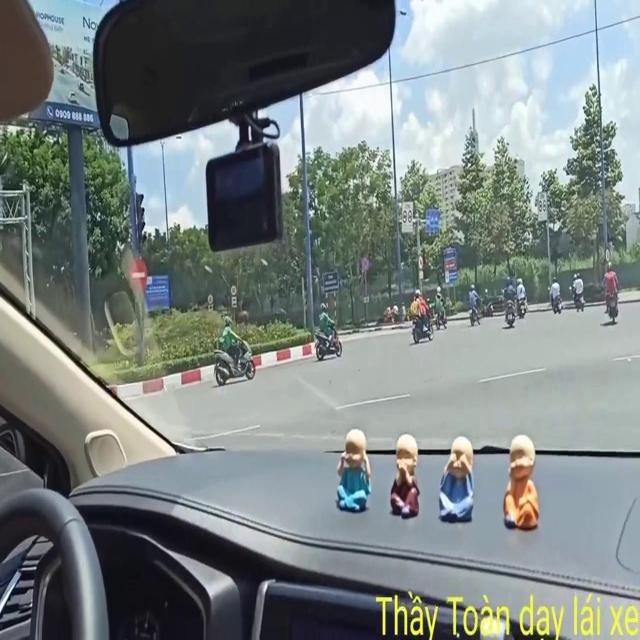Cấm các phương tiện hoạt động trong khung giờ cố định: (398, 191, 415, 232), (536, 188, 547, 218)
Cấm dừng - Cấm đỗ: (360, 253, 371, 273)
Cấm xe máy: (415, 251, 426, 268)
Cấm đi ngược chiều: (123, 253, 149, 298)
Khác: (140, 271, 172, 304), (442, 242, 461, 285), (318, 267, 342, 292)
Làn đường cho từng xe: (421, 202, 442, 233)
